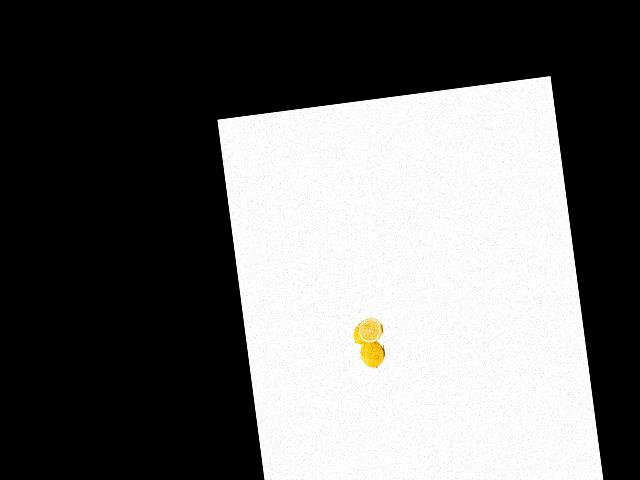lemon: (349, 314, 377, 347)
